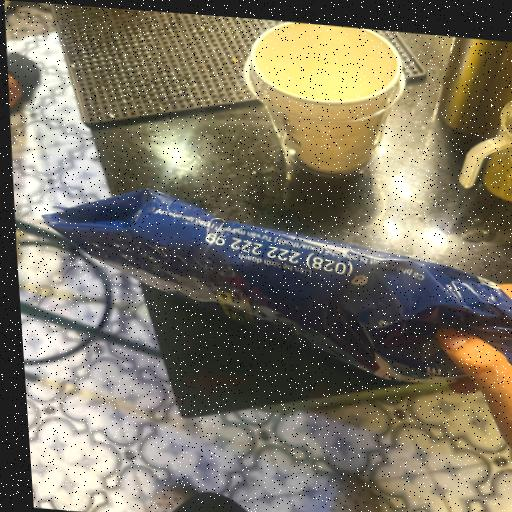cafe_hat: (27, 164, 512, 409)
